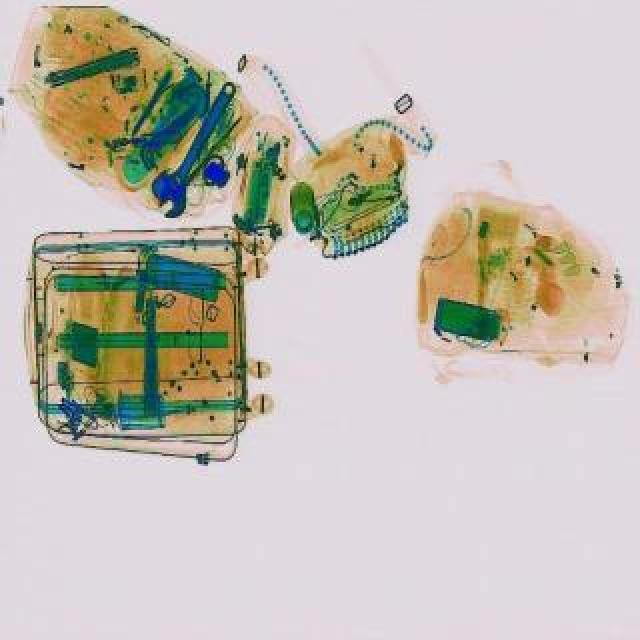scissors: (136, 76, 252, 226)
